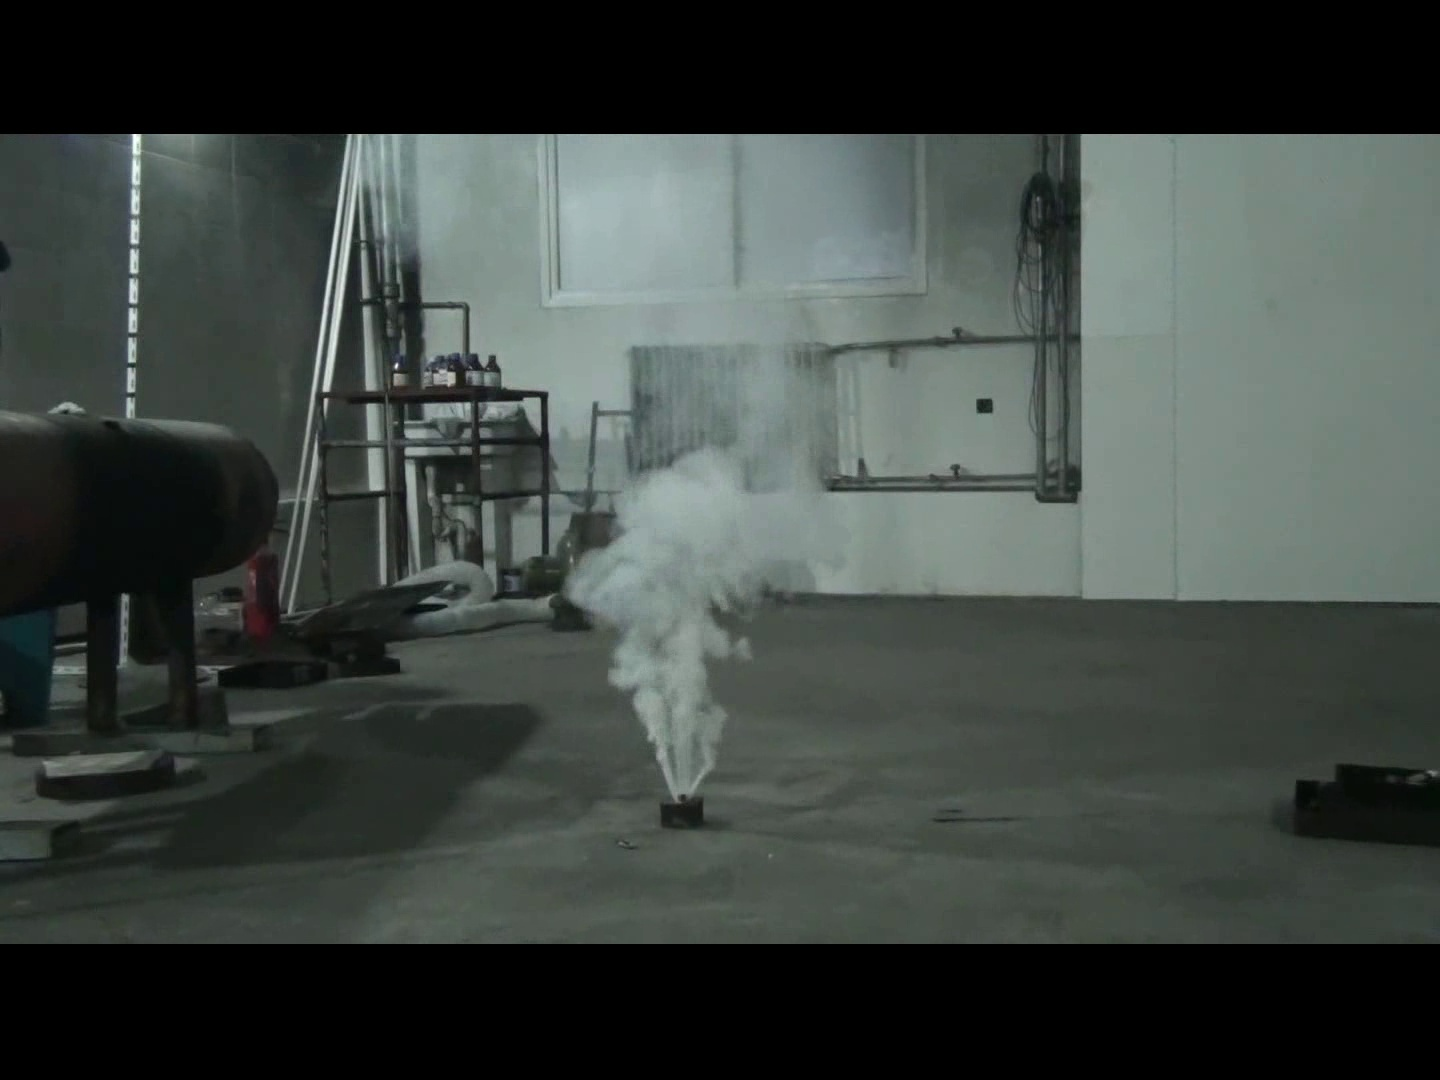smoke: (548, 324, 850, 791)
